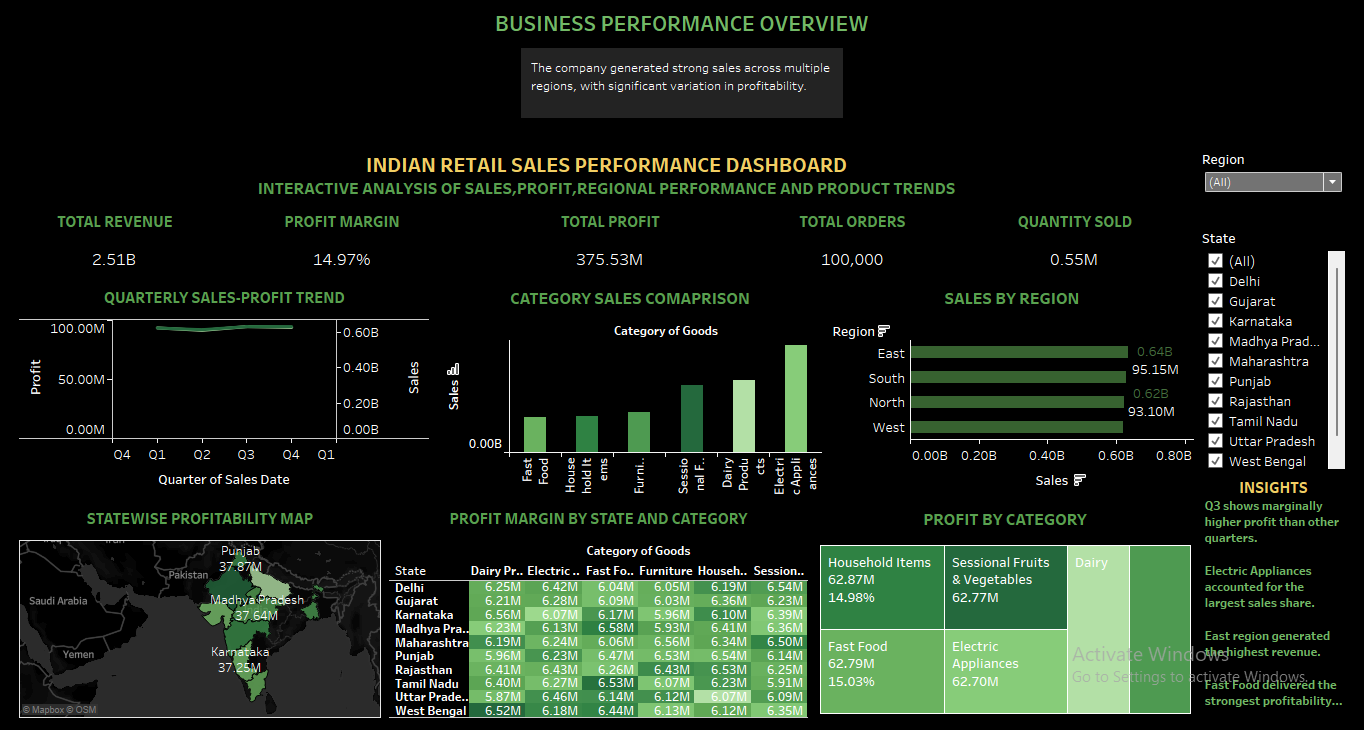

The page's visual inventory and layout, read from the dashboard file:
{"tool":"tableau","page":{"name":"INDIAN SALES PERFORMANCE DASHBOARD","canvas":[1000,1000],"units":"permille","ordinal":0},"visuals":[{"type":"title","box":[5.9,10.8,877.7,77.2]},{"type":"filter","title":"SALES BY REGION","param":"[federated.0muur5d0kcckg71a2tnpc1ia7r6d].[none:Region:nk]","box":[883.6,10.8,110.5,107]},{"type":"worksheet","title":"Total Revenue","mark":"Automatic","box":[5.9,88.1,148.1,132.4]},{"type":"worksheet","title":"Total Profit","mark":"Automatic","box":[153.9,88.1,133.2,132.4]},{"type":"worksheet","title":"Profit Margin %","mark":"Automatic","box":[287.1,88.1,149.9,132.4]},{"type":"worksheet","title":"Total Orders","mark":"Automatic","box":[437,88.1,159.6,132.4]},{"type":"worksheet","title":"Avg. Order","mark":"Automatic","box":[596.6,88.1,141.3,132.4]},{"type":"worksheet","title":"Quantity Sold","mark":"Automatic","box":[737.9,88.1,145.8,132.4]},{"type":"filter","title":"SALES BY REGION","param":"[federated.0muur5d0kcckg71a2tnpc1ia7r6d].[none:State:nk]","box":[883.6,117.9,110.5,128.7]},{"type":"worksheet","title":"QUARTERLY SALES TREND","mark":"Automatic","rows":["Profit","Sales"],"cols":["Sales Date"],"box":[5.9,220.5,310.9,383.4]},{"type":"worksheet","title":"CATEGORY SALES","mark":"Automatic","rows":["Sales"],"cols":["Category of Goods"],"box":[316.7,220.5,290.6,383.4]},{"type":"worksheet","title":"SALES BY REGION","mark":"Automatic","rows":["Region"],"cols":["Sales"],"box":[607.3,220.5,276.3,383.4]},{"type":"text","box":[883.6,246.6,110.5,550.1]},{"type":"worksheet","title":"STATE-PROFIT MAP","mark":"Automatic","box":[5.9,603.9,274.3,385.2]},{"type":"worksheet","title":"PROFIT MARGIN BY STATE AND CATEGORY","mark":"Square","rows":["State"],"cols":["Category of Goods"],"box":[280.2,603.9,317,385.2]},{"type":"worksheet","title":"PROFIT BY CATEGORY","mark":"Automatic","box":[597.2,603.9,286.4,385.2]}]}

Visuals, with their boxes on the dashboard's canvas, which has no fixed pixel size, in thousandths of its width and height (x1, y1, x2, y2). These are canvas units, not pixel positions in the 1364x730 screenshot, which may show the page scaled, cropped or inside an application window:
title: pyautogui.locateOnScreen(6, 11, 884, 88)
"SALES BY REGION" filter: pyautogui.locateOnScreen(884, 11, 994, 118)
"Total Revenue" worksheet: pyautogui.locateOnScreen(6, 88, 154, 220)
"Total Profit" worksheet: pyautogui.locateOnScreen(154, 88, 287, 220)
"Profit Margin %" worksheet: pyautogui.locateOnScreen(287, 88, 437, 220)
"Total Orders" worksheet: pyautogui.locateOnScreen(437, 88, 597, 220)
"Avg. Order" worksheet: pyautogui.locateOnScreen(597, 88, 738, 220)
"Quantity Sold" worksheet: pyautogui.locateOnScreen(738, 88, 884, 220)
"SALES BY REGION" filter: pyautogui.locateOnScreen(884, 118, 994, 247)
"QUARTERLY SALES TREND" worksheet: pyautogui.locateOnScreen(6, 220, 317, 604)
"CATEGORY SALES" worksheet: pyautogui.locateOnScreen(317, 220, 607, 604)
"SALES BY REGION" worksheet: pyautogui.locateOnScreen(607, 220, 884, 604)
text: pyautogui.locateOnScreen(884, 247, 994, 797)
"STATE-PROFIT MAP" worksheet: pyautogui.locateOnScreen(6, 604, 280, 989)
"PROFIT MARGIN BY STATE AND CATEGORY" worksheet (Square marks): pyautogui.locateOnScreen(280, 604, 597, 989)
"PROFIT BY CATEGORY" worksheet: pyautogui.locateOnScreen(597, 604, 884, 989)
